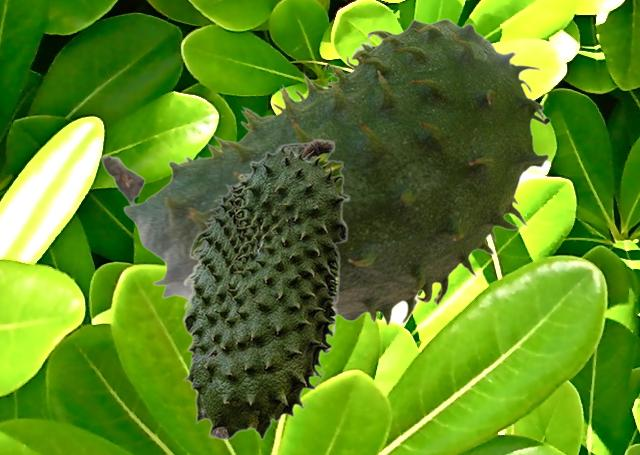guyabano: (100, 18, 550, 326), (181, 138, 349, 440)
